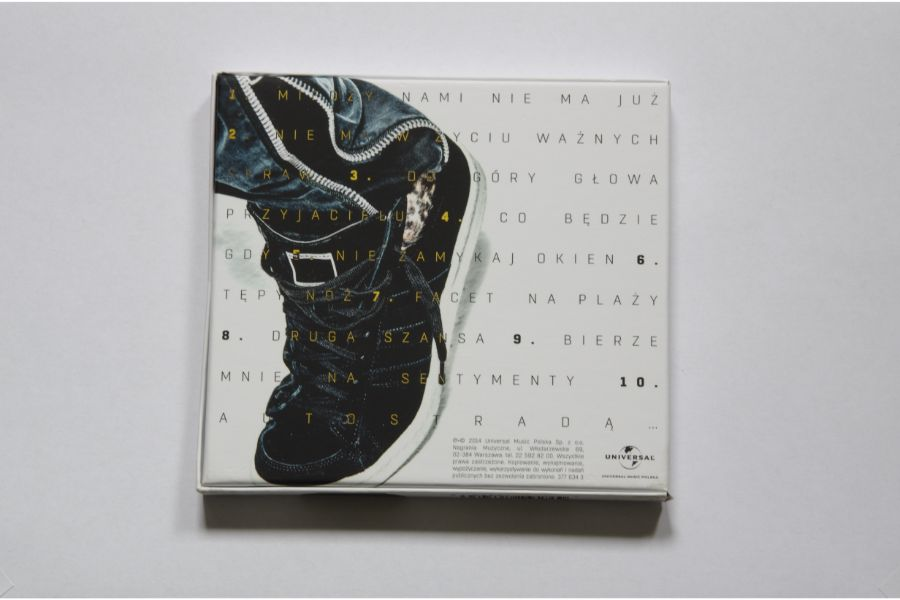album: (194, 68, 680, 503)
